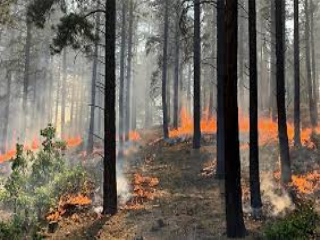fire: (166, 108, 320, 148), (1, 138, 88, 158), (293, 167, 318, 196), (59, 192, 89, 210), (128, 129, 147, 143)
smoke: (111, 165, 141, 211), (266, 186, 291, 213)
